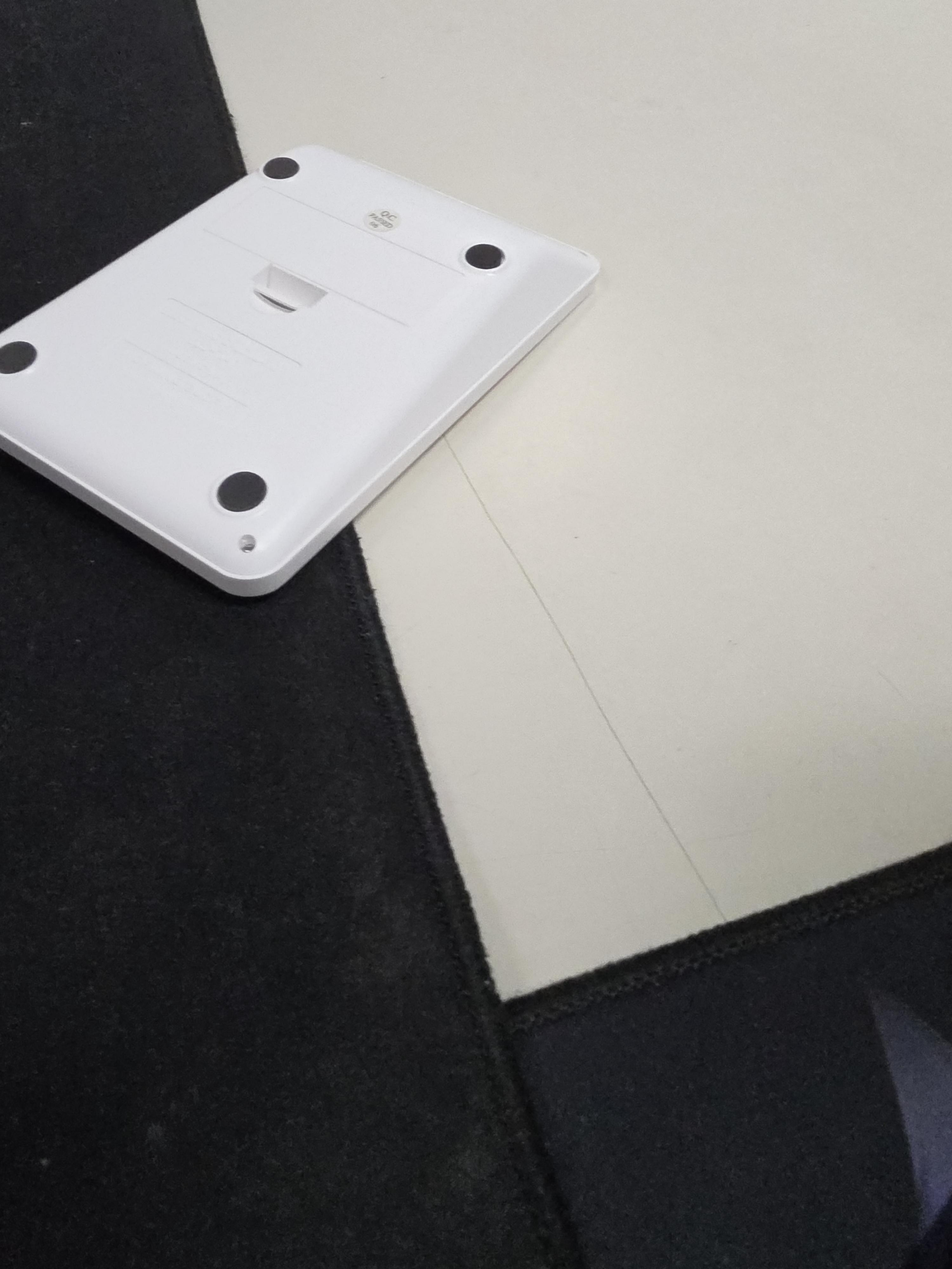calculator: (0, 144, 601, 597)
